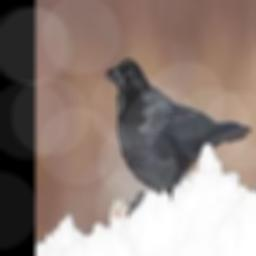Crow: (104, 59, 251, 221)
